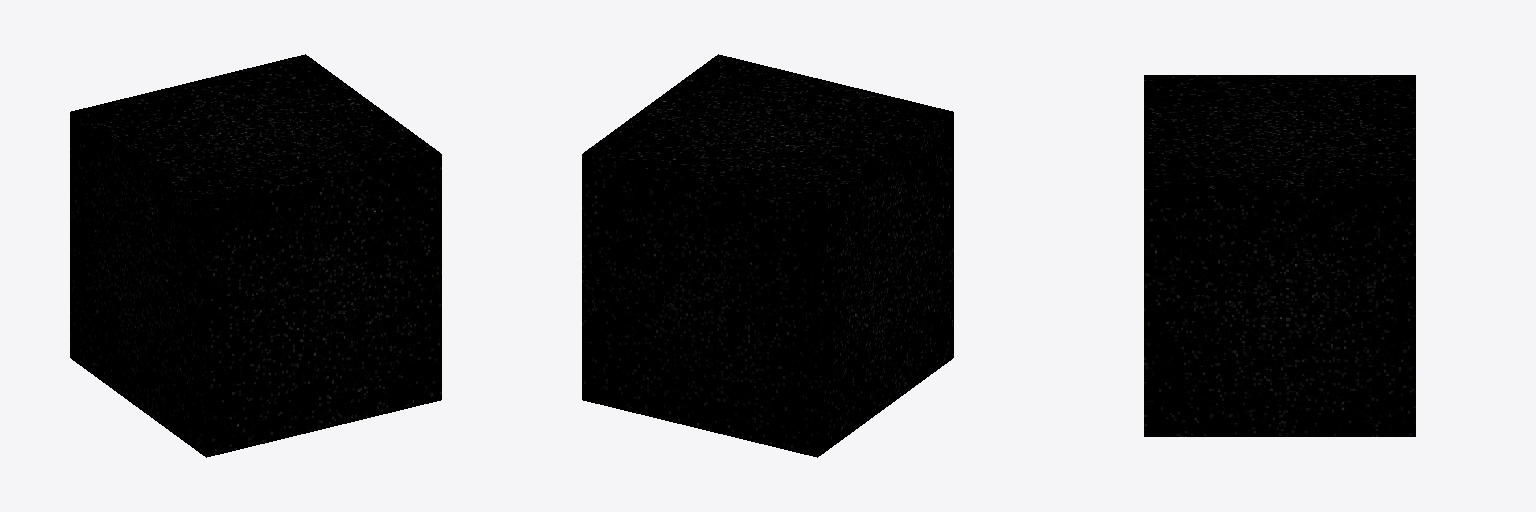
The picture shows the model from 3 angles: view 1: azimuth 30°, elevation 25°; view 2: azimuth 150°, elevation 25°; view 3: azimuth 270°, elevation 25°; orthographic projection.
Visible parts, largest first — view 1: skybox:pCube1; view 2: skybox:pCube1; view 3: skybox:pCube1.
Boxes of the visible parts, x1,y1,x2,y2 form: skybox:pCube1: [70, 54, 441, 457]; skybox:pCube1: [582, 54, 953, 457]; skybox:pCube1: [1144, 75, 1415, 436].
Bounding box in the file's own units: 2000 × 2000 × 2000.
1 materials, 1 textured.